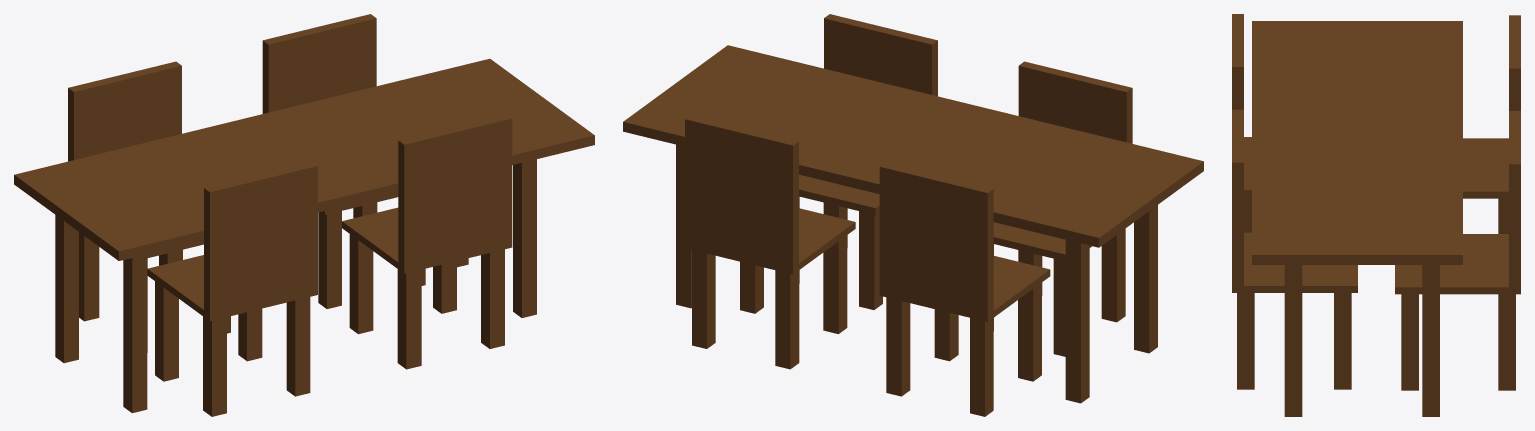
File: mesada.dae
3 views of the same model, side by side, from view 1: azimuth 30°, elevation 25°; view 2: azimuth 150°, elevation 25°; view 3: azimuth 270°, elevation 25° (orthographic).
Parts seen in each view (by area): view 1: mesa, silla_izquierda, silla_izquierda.001, silla_derecha, silla_derecha.001; view 2: mesa, silla_derecha.001, silla_derecha, silla_izquierda.001, silla_izquierda; view 3: mesa, silla_derecha, silla_izquierda, silla_derecha.001, silla_izquierda.001.
Boxes of the visible parts, x1,y1,x2,y2 form: mesa: [14, 58, 594, 413]; silla_izquierda: [342, 114, 512, 369]; silla_izquierda.001: [147, 161, 317, 416]; silla_derecha: [262, 14, 425, 308]; silla_derecha.001: [68, 61, 230, 352]; mesa: [623, 45, 1203, 403]; silla_derecha.001: [879, 162, 1050, 416]; silla_derecha: [685, 115, 855, 369]; silla_izquierda.001: [993, 61, 1132, 356]; silla_izquierda: [799, 14, 937, 309]; mesa: [1252, 21, 1462, 416]; silla_derecha: [1395, 111, 1520, 390]; silla_izquierda: [1232, 109, 1357, 389]; silla_derecha.001: [1463, 15, 1520, 233]; silla_izquierda.001: [1232, 14, 1251, 232].
Size of the model in its own units: 181 by 94.43 by 82.75.
